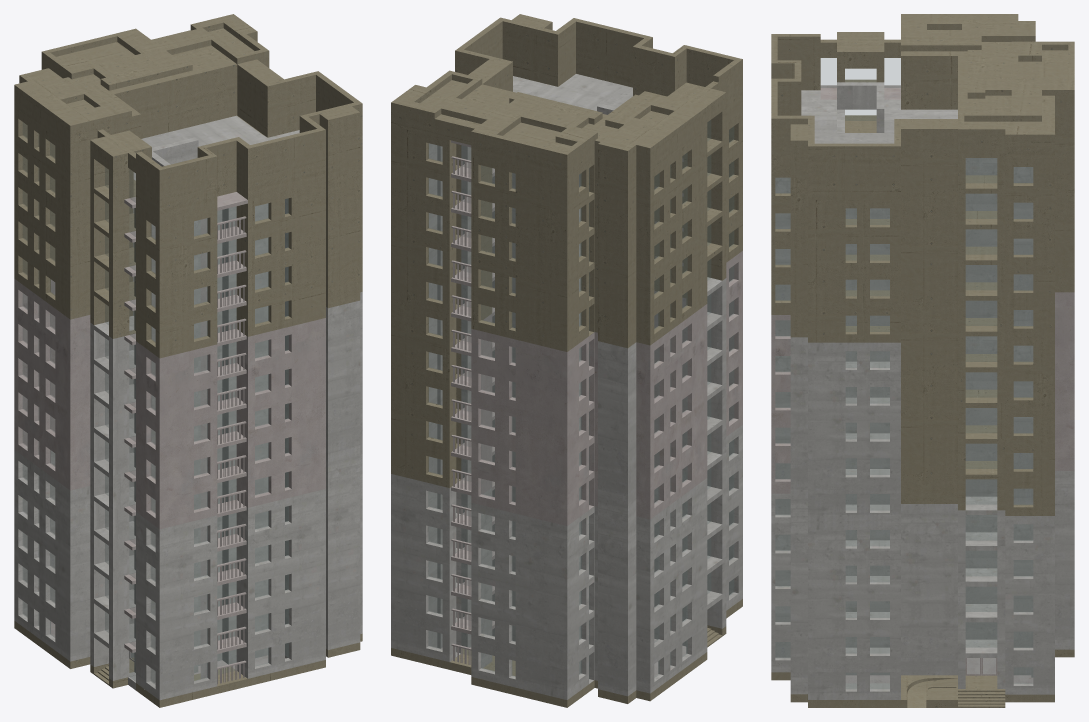
File: kscene.gltf
3 renders of one model, left to right at view 1: azimuth 30°, elevation 25°; view 2: azimuth 150°, elevation 25°; view 3: azimuth 270°, elevation 25°, orthographic. The views are drawn at different scales.
Parts seen in each view (by area): view 1: Korean_Apartment_0; view 2: Korean_Apartment_0; view 3: Korean_Apartment_0.
Part boxes in pixels (box(x1,y1,x2,y2)): Korean_Apartment_0: box(14, 14, 362, 707); Korean_Apartment_0: box(391, 14, 742, 707); Korean_Apartment_0: box(771, 14, 1074, 707).
Size of the model in its own units: 4.55 by 9.53 by 4.62.
Materials: 4 (3 with a texture image).
